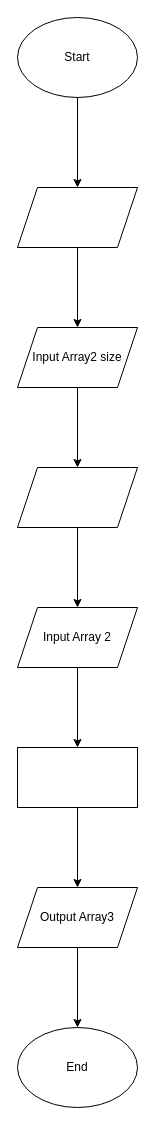
Some shapes in this 155 by 1125 pixel diagram are drawn without their labels. The shapes that lost their labels are listed below. From the top down, each one's centre as x and y in pixels, then its label:
At (x=77, y=217): "Input Array1 size".
At (x=77, y=497): "Input Array1".
At (x=77, y=777): "Array1 + Array2".
